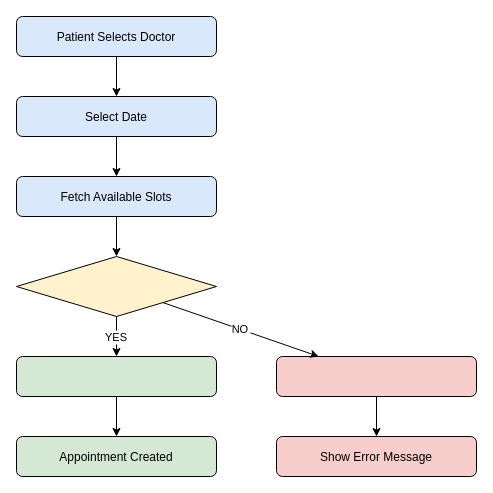
Some shapes in this 493 by 493 pixel diagram are drawn without their labels. Each missing label, with the box of its shape:
Book Appointment: (16, 356, 216, 396)
Slot Available?: (16, 256, 216, 316)
Slot Unavailable: (276, 356, 476, 396)
